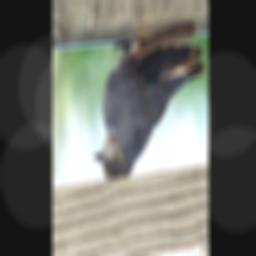Swallow: (93, 21, 205, 181)
